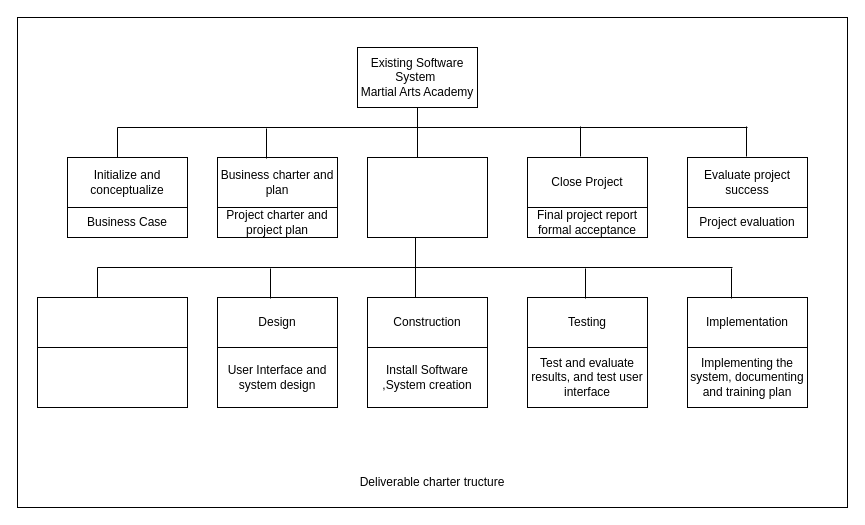
The diagram is 865 pixels wide and 525 high, and some of its shapes have lost their labels. The box of each missing label's shape, as (x1, y1, x2, y2) in pixels:
Analysis: (36, 296, 188, 348)
Collecting requirements and analysing: (36, 346, 188, 408)
Execute and control: (366, 156, 488, 238)
